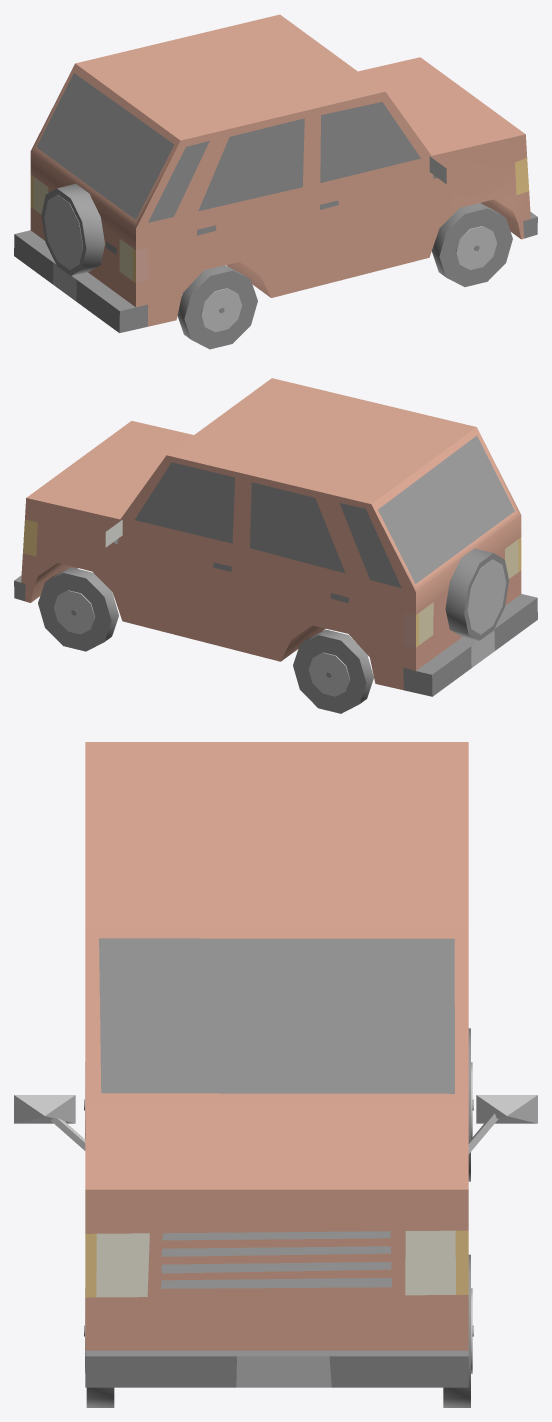
The model's file is kar_l_2.fbx.
3 views of the same model, one above another, from view 1: azimuth 30°, elevation 25°; view 2: azimuth 150°, elevation 25°; view 3: azimuth 270°, elevation 25° (orthographic). The views are drawn at different scales.
Parts seen in each view (by area): view 1: Cube, Cylinder_6, Cylinder_9; view 2: Cube, Cylinder_7, Cylinder_8; view 3: Cube, Cylinder_7.
Boxes of the visible parts, x1,y1,x2,y2 form: Cube: (14, 14, 537, 333); Cylinder_6: (432, 203, 512, 286); Cylinder_9: (177, 265, 257, 349); Cube: (14, 378, 537, 696); Cylinder_7: (38, 567, 118, 651); Cylinder_8: (293, 629, 373, 713); Cube: (14, 742, 537, 1387); Cylinder_7: (443, 1254, 473, 1407).
Size of the model in its own units: 437 by 215 by 259.
